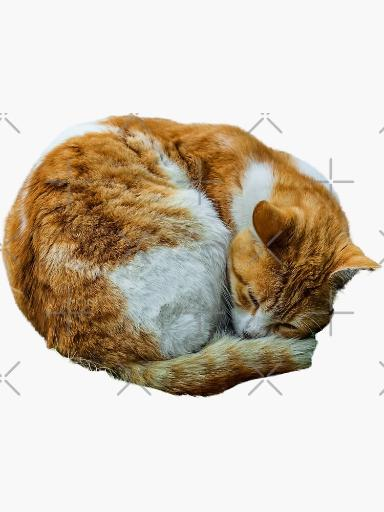cat_sleeping: (5, 116, 379, 396)
